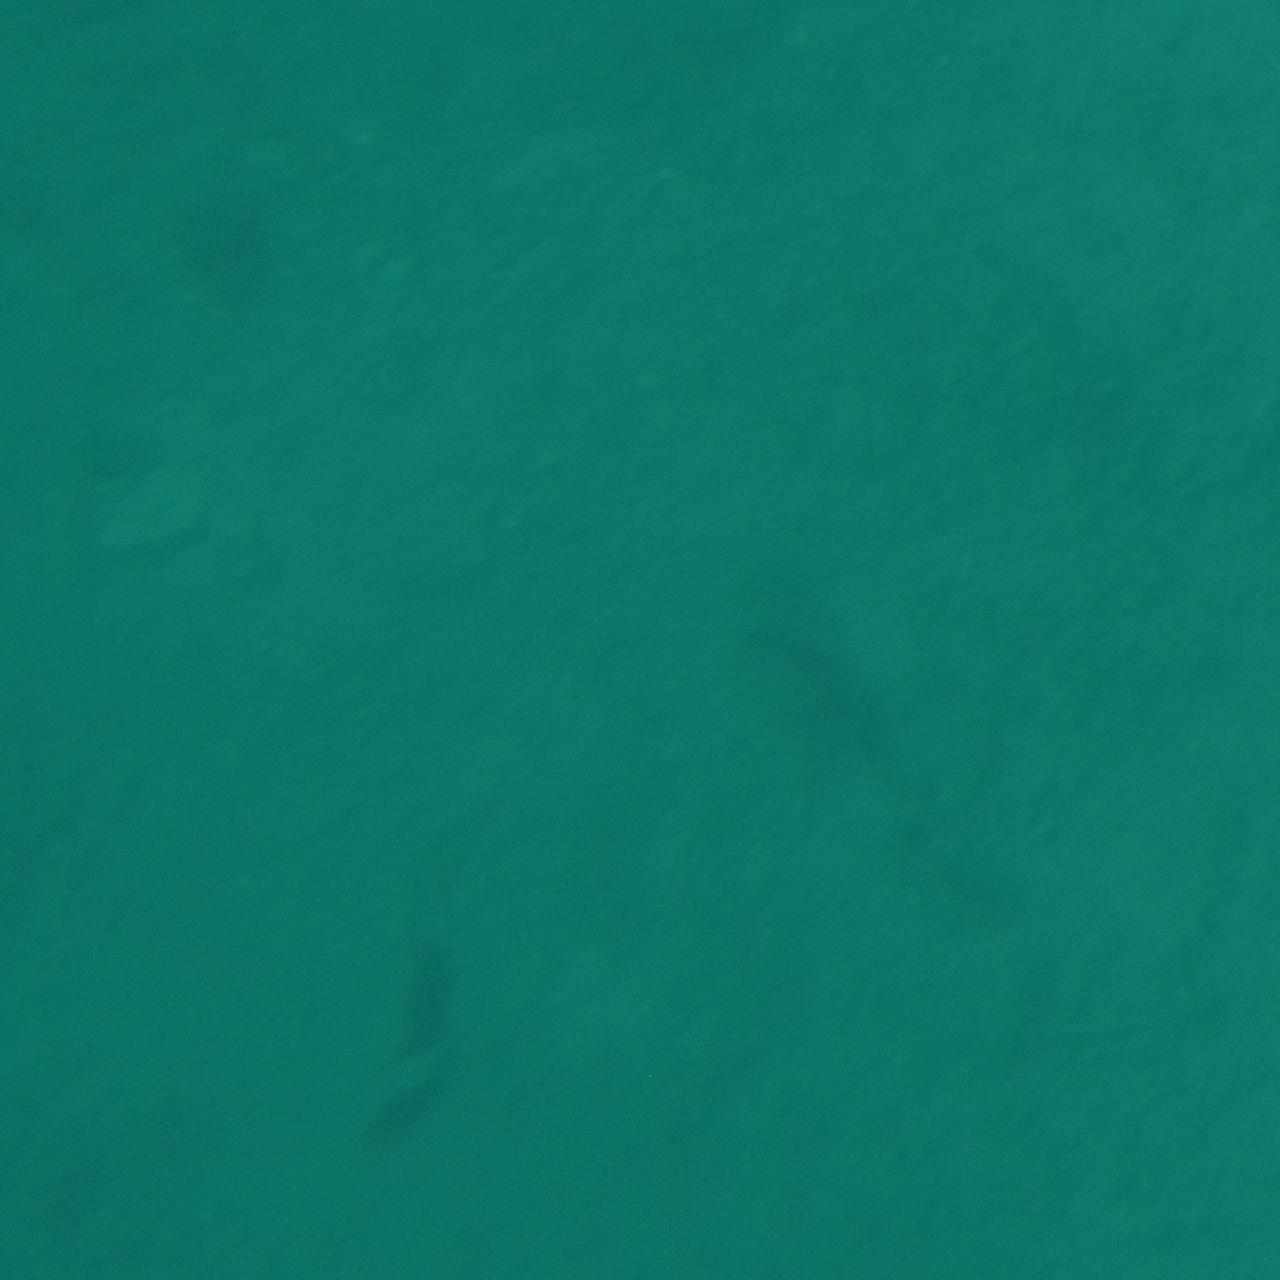Holothuria tubulosa: (342, 915, 479, 1185)
